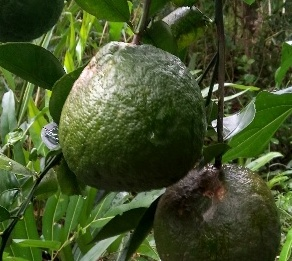Cam: (54, 38, 207, 194)
